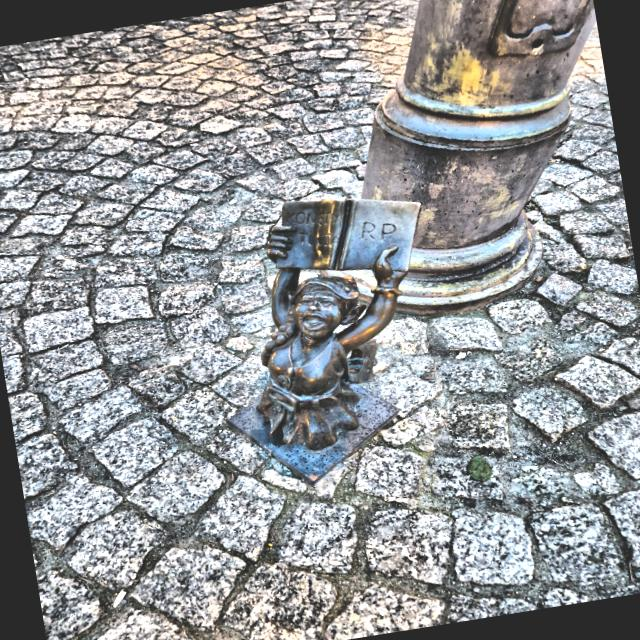Demokracja: (230, 199, 420, 482)
